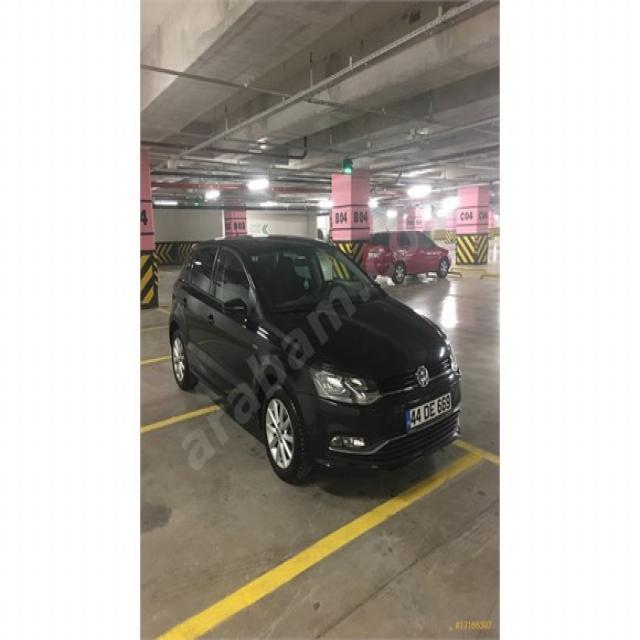plate: (405, 389, 455, 435)
